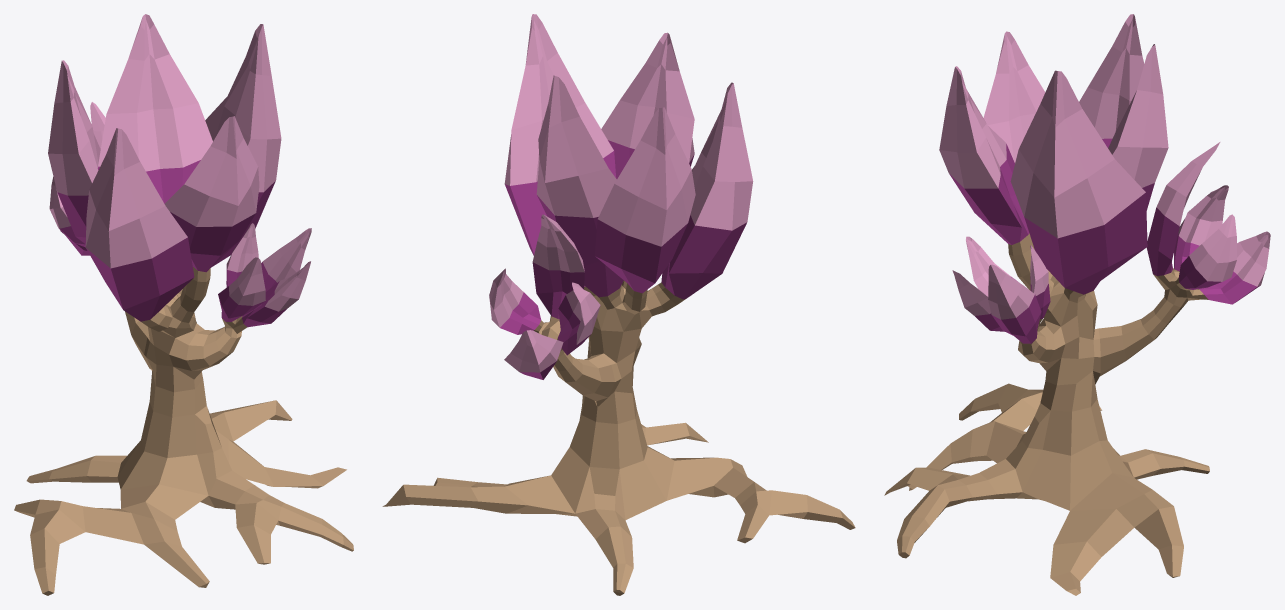
The model's file is Tree_14_Var_02.fbx.
3 views of the same model, side by side, from view 1: azimuth 30°, elevation 25°; view 2: azimuth 150°, elevation 25°; view 3: azimuth 270°, elevation 25° (orthographic). The views are drawn at different scales.
Visible parts, largest first — view 1: Tree_14_Var_02; view 2: Tree_14_Var_02; view 3: Tree_14_Var_02.
Part boxes in pixels (x1,y1,x2,y2): Tree_14_Var_02: (14,14,353,595); Tree_14_Var_02: (382,14,855,595); Tree_14_Var_02: (884,14,1270,595).
Bounding box in the file's own units: 4.72 × 6.6 × 5.09.
